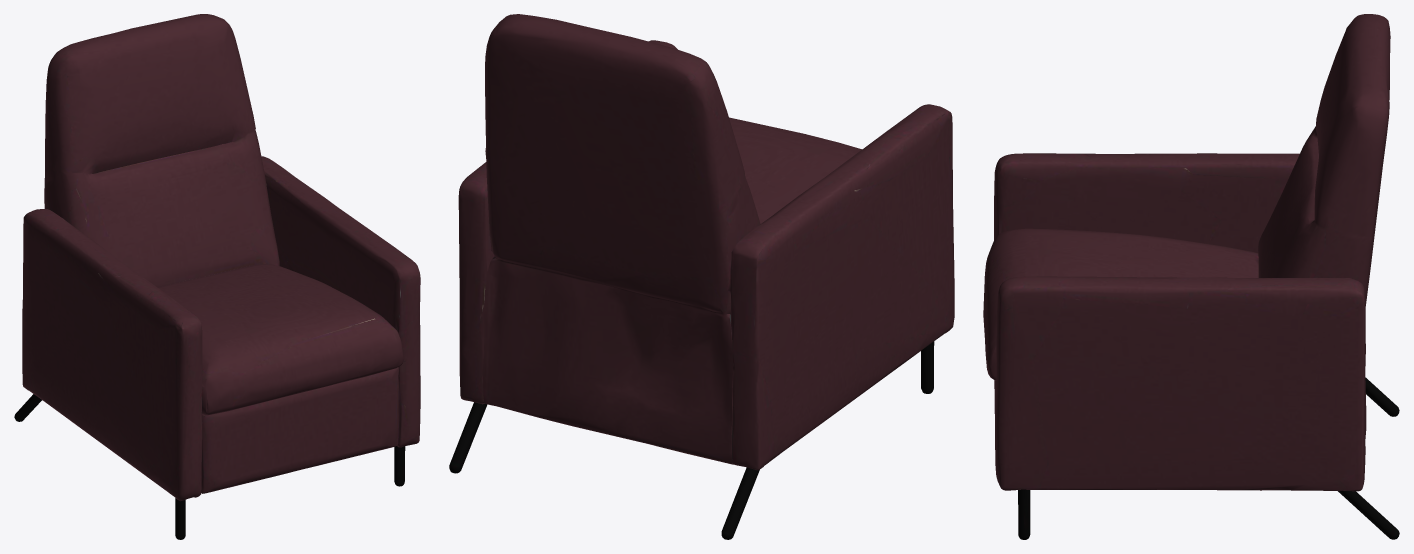
Rendered from GISTAD recliner - Idekulla dark red (40466389).glb.
3 views of the same model, side by side, from view 1: azimuth 30°, elevation 25°; view 2: azimuth 150°, elevation 25°; view 3: azimuth 270°, elevation 25° (orthographic). The views are drawn at different scales.
Visible parts, largest first — view 1: 40466389-GISTAD001; view 2: 40466389-GISTAD001; view 3: 40466389-GISTAD001.
Boxes of the visible parts, x1=… form: 40466389-GISTAD001: x1=14, y1=14, x2=420, y2=539; 40466389-GISTAD001: x1=449, y1=14, x2=954, y2=539; 40466389-GISTAD001: x1=983, y1=14, x2=1399, y2=539.
Bounding box in the file's own units: 0.6727 × 0.9682 × 0.8554.
Materials: 1 (1 with a texture image).
